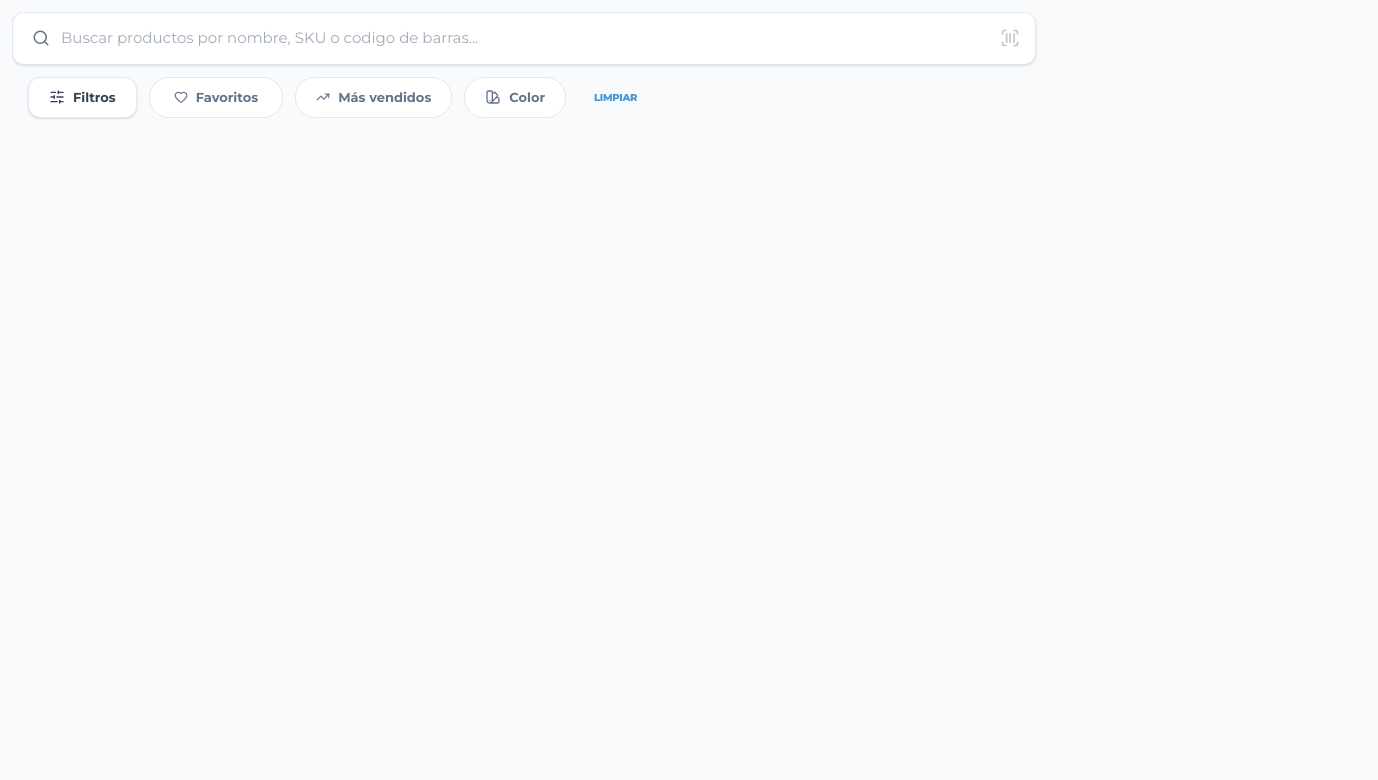
Test case: SearchHeader › opens and closes the desktop color dropdown and selects a color
The image size is (1378, 780).
Click the button "Color": (515, 97) [464, 76, 566, 118]
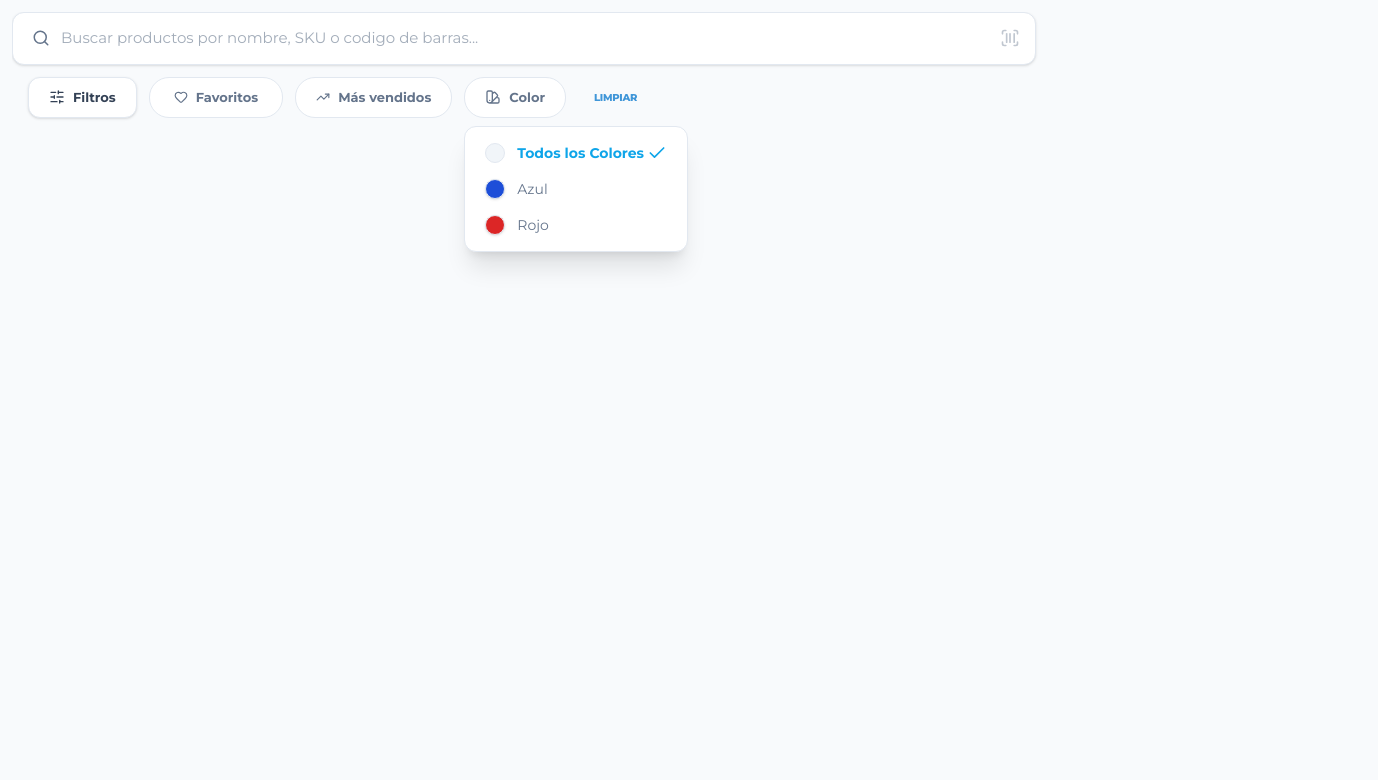
Check: the text "Todos los Colores" is shown, box [517, 143, 644, 163]
Press the mouse on the element that starts with "Filtros": (695, 396) [12, 12, 1377, 779]
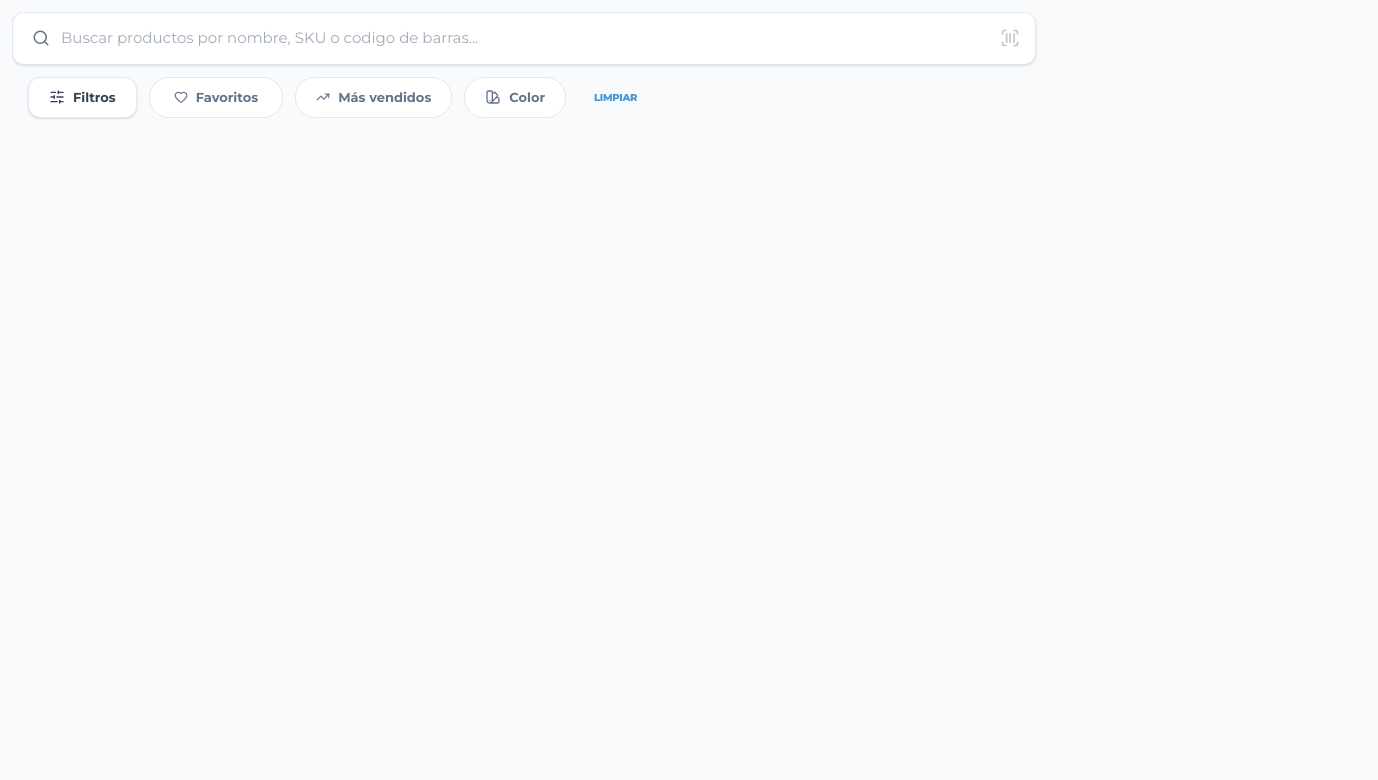
Check: the button "Todos los Colores" is gone
Click the button "Color": (515, 97) [464, 76, 566, 118]
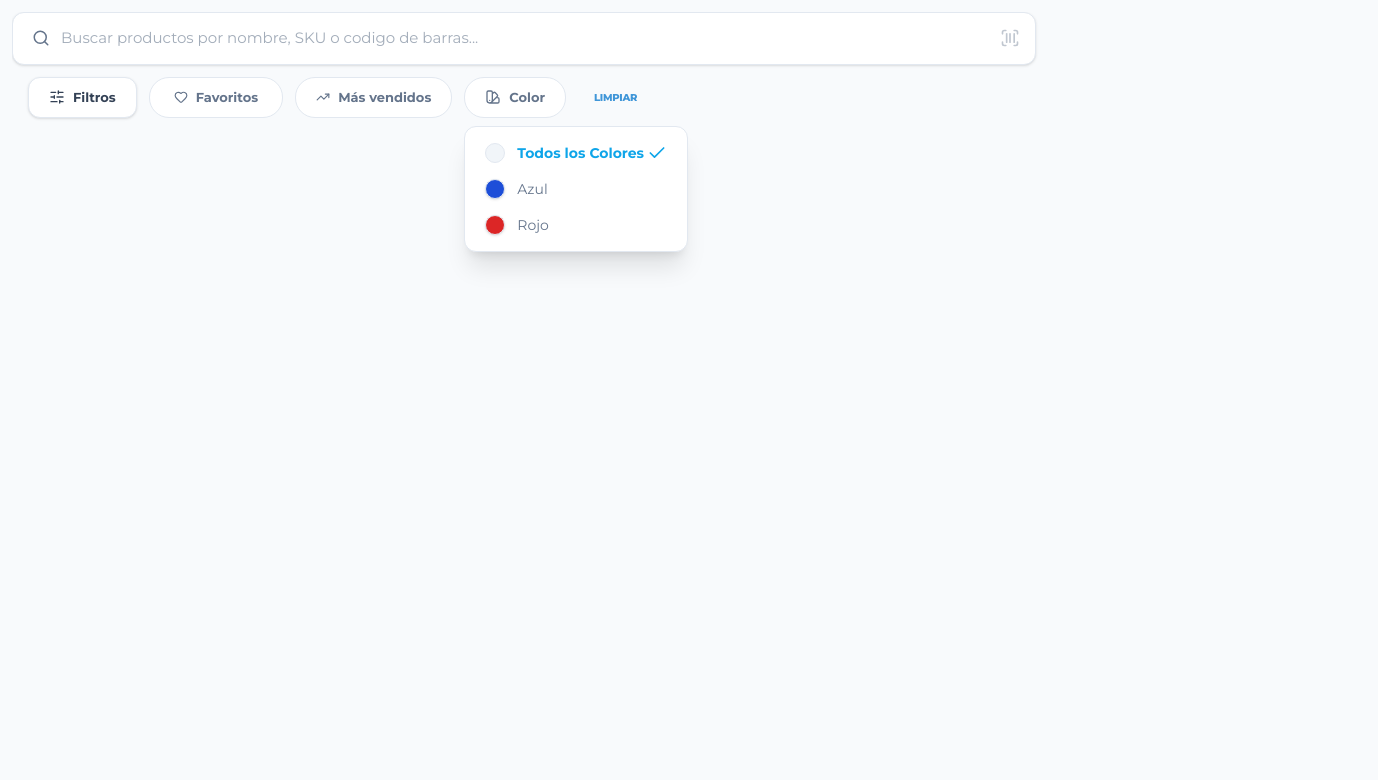
Click the button "Azul": (576, 189) [469, 171, 683, 207]
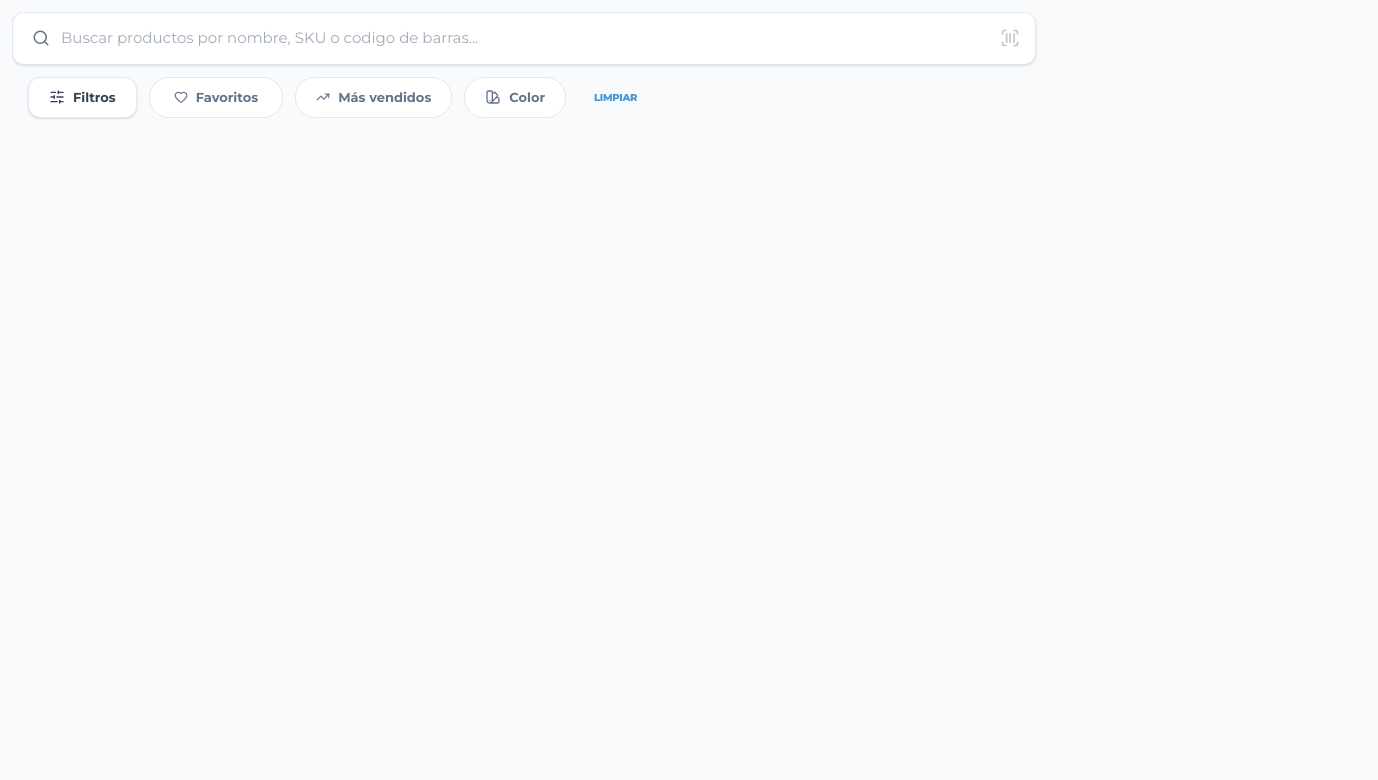
Check: the button "Todos los Colores" is gone
